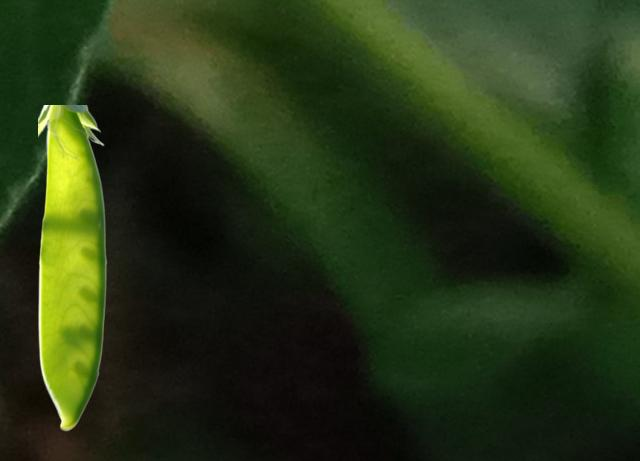pea: (38, 105, 106, 430)
